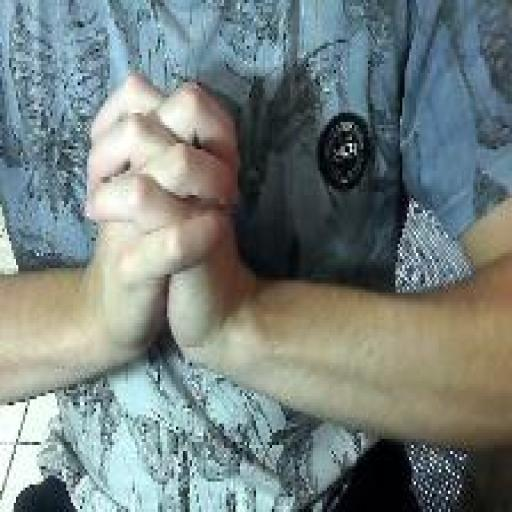Mi -snake-: (80, 68, 242, 374)
